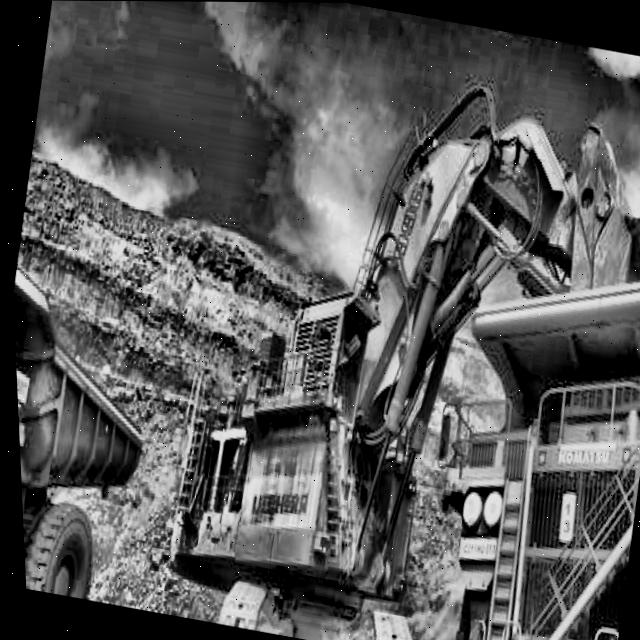dump_truck: (392, 191, 640, 640), (7, 199, 177, 605)
excavator: (115, 4, 555, 640)
